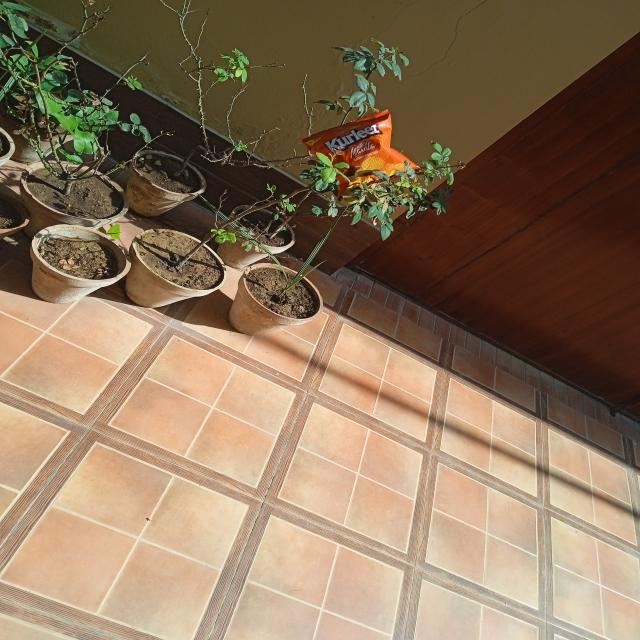Plastic: (306, 110, 422, 188)
